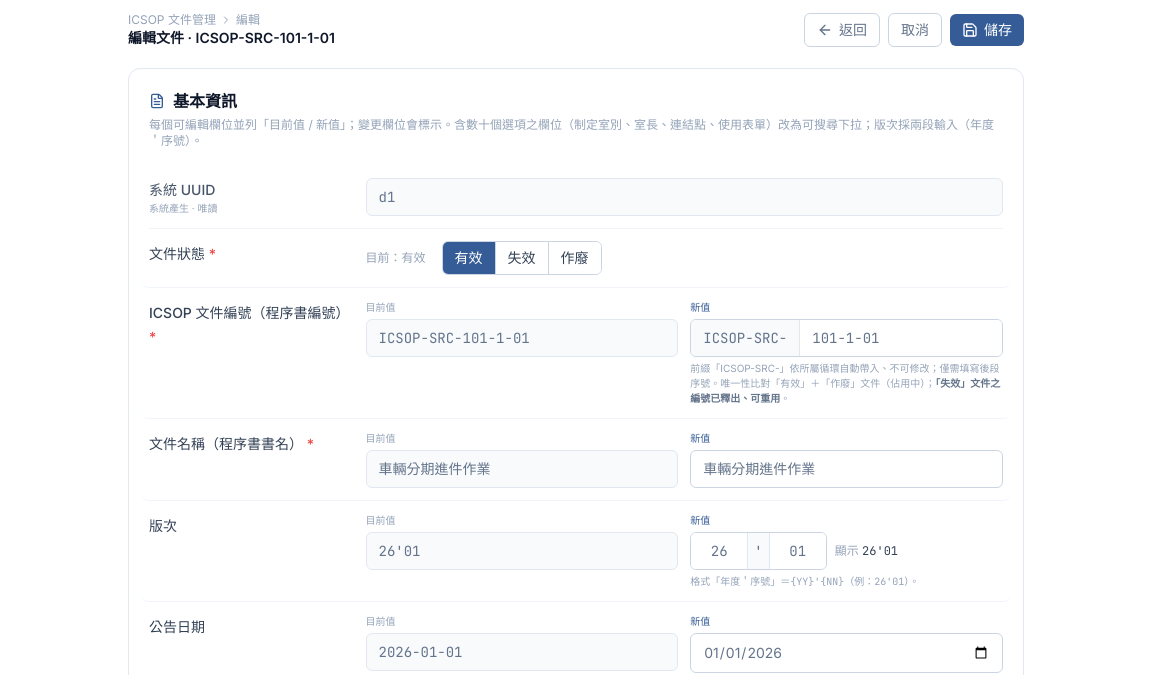
it: DocumentEditPage — F011 編輯與版本對照（移植 prototype 15） › F012 切換原因 UI（prototype 15 statusReasonWrap；ruling 2＝折入一般 PATCH） › TS-DCL-D-002 點選不同狀態 → 顯示原因輸入框（label／placeholder 比照 prototype）
Expected: the field labelled "文件名稱（程序書書名） *" is shown, [690,450,1003,488]
Step 1. Click the button "失效" → [522, 258], box [496,242,548,274]
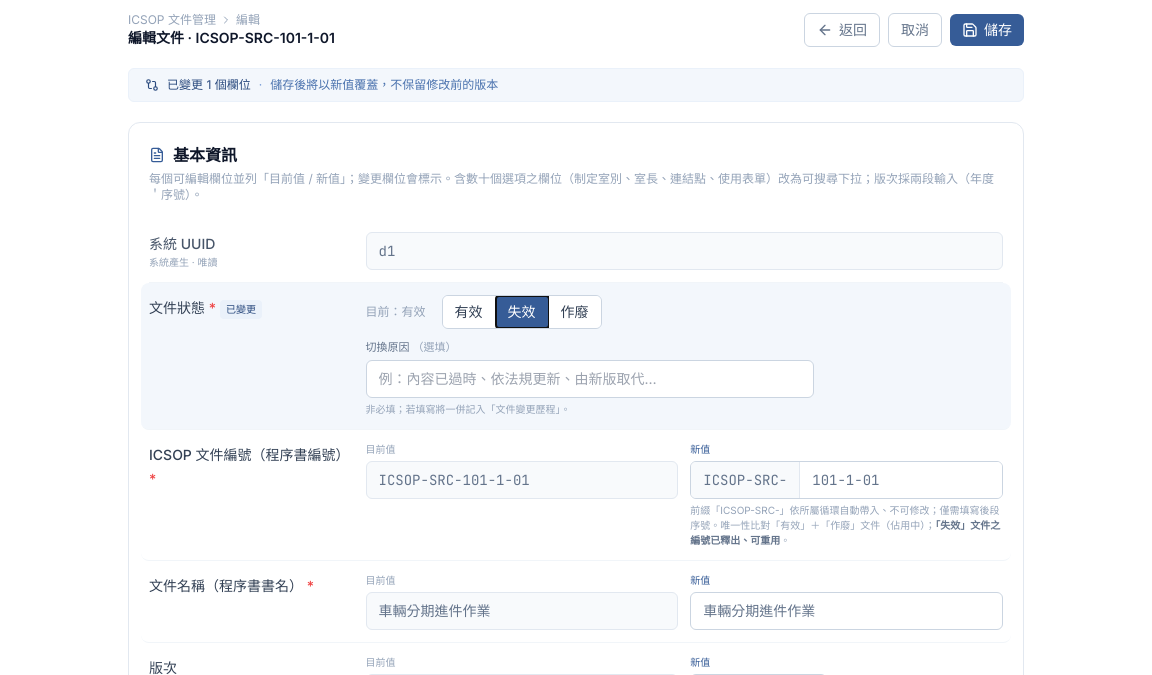
Expected: the text "（選填）" is shown, [412,340,456,354]
Expected: the field with placeholder "例：內容已過時、依法規更新、由新版取代…" is shown, [366,360,814,398]
